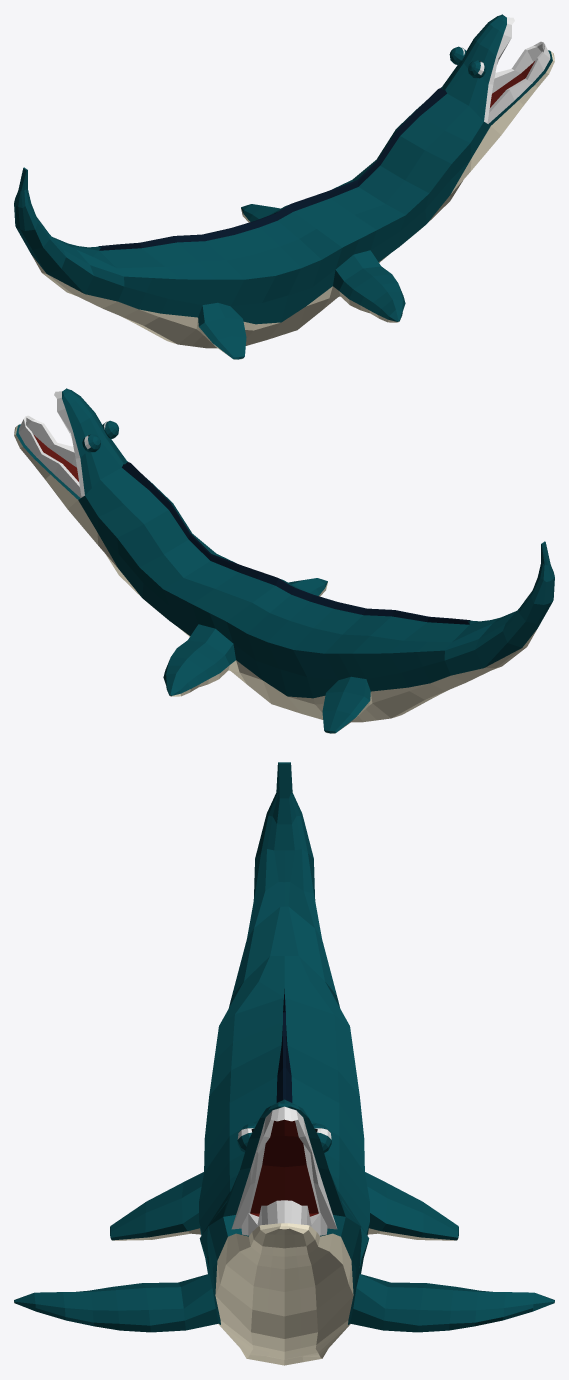
File: PezFinal.fbx
The picture shows the model from 3 angles, top to bottom: view 1: azimuth 30°, elevation 25°; view 2: azimuth 150°, elevation 25°; view 3: azimuth 270°, elevation 25°; orthographic projection. The views are drawn at different scales.
Visible parts, largest first — view 1: PezDefinitivo; view 2: PezDefinitivo; view 3: PezDefinitivo.
Part boxes in pixels (left/top/right/bottom): PezDefinitivo: left=14, top=14, right=554, bottom=359; PezDefinitivo: left=14, top=388, right=554, bottom=733; PezDefinitivo: left=14, top=762, right=554, bottom=1365.
Bounding box in the file's own units: 1120 × 521 × 565.
